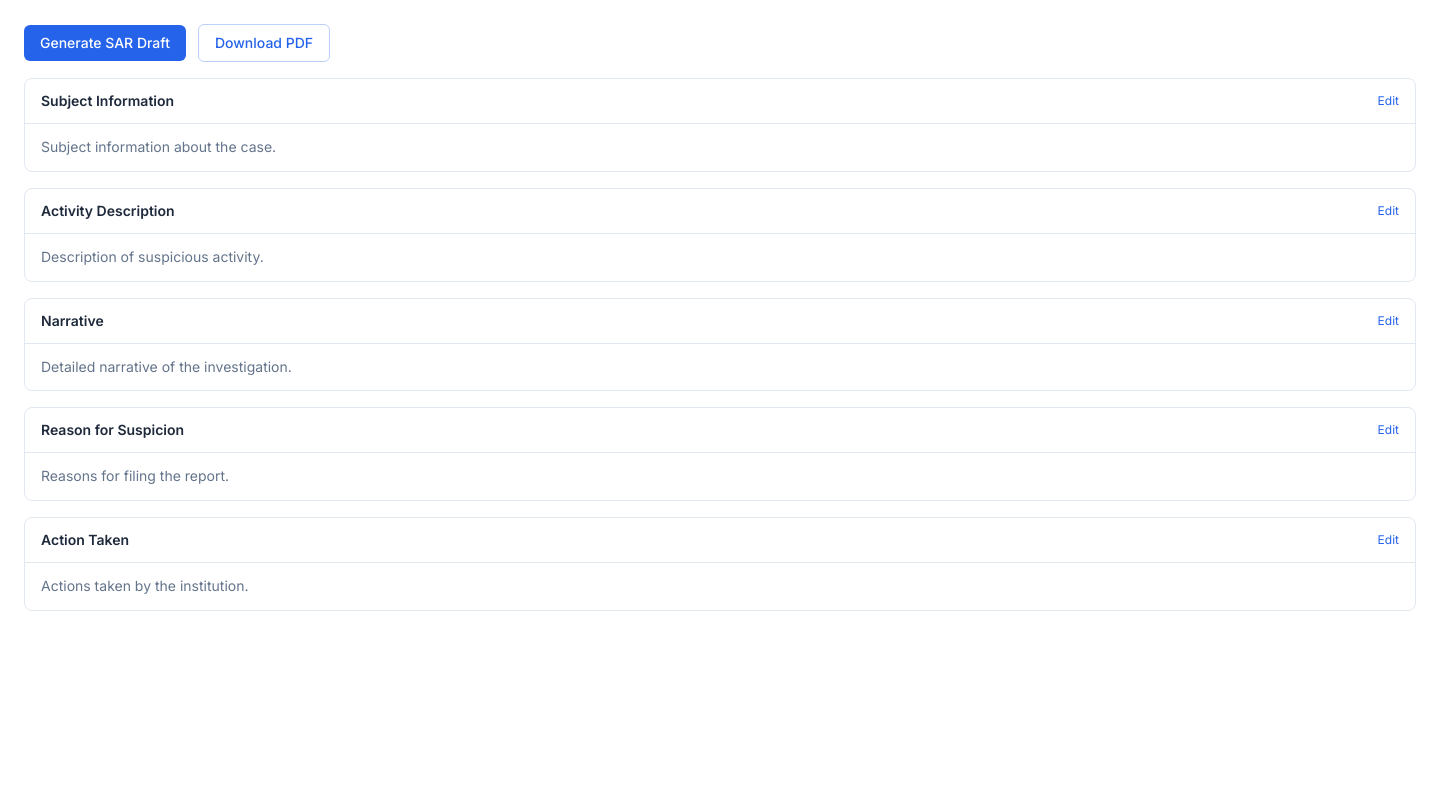
Scenario: SAREditor › cancels edit mode
Click the 1st button "Edit" at (1388, 101), box [1378,93,1399,109]
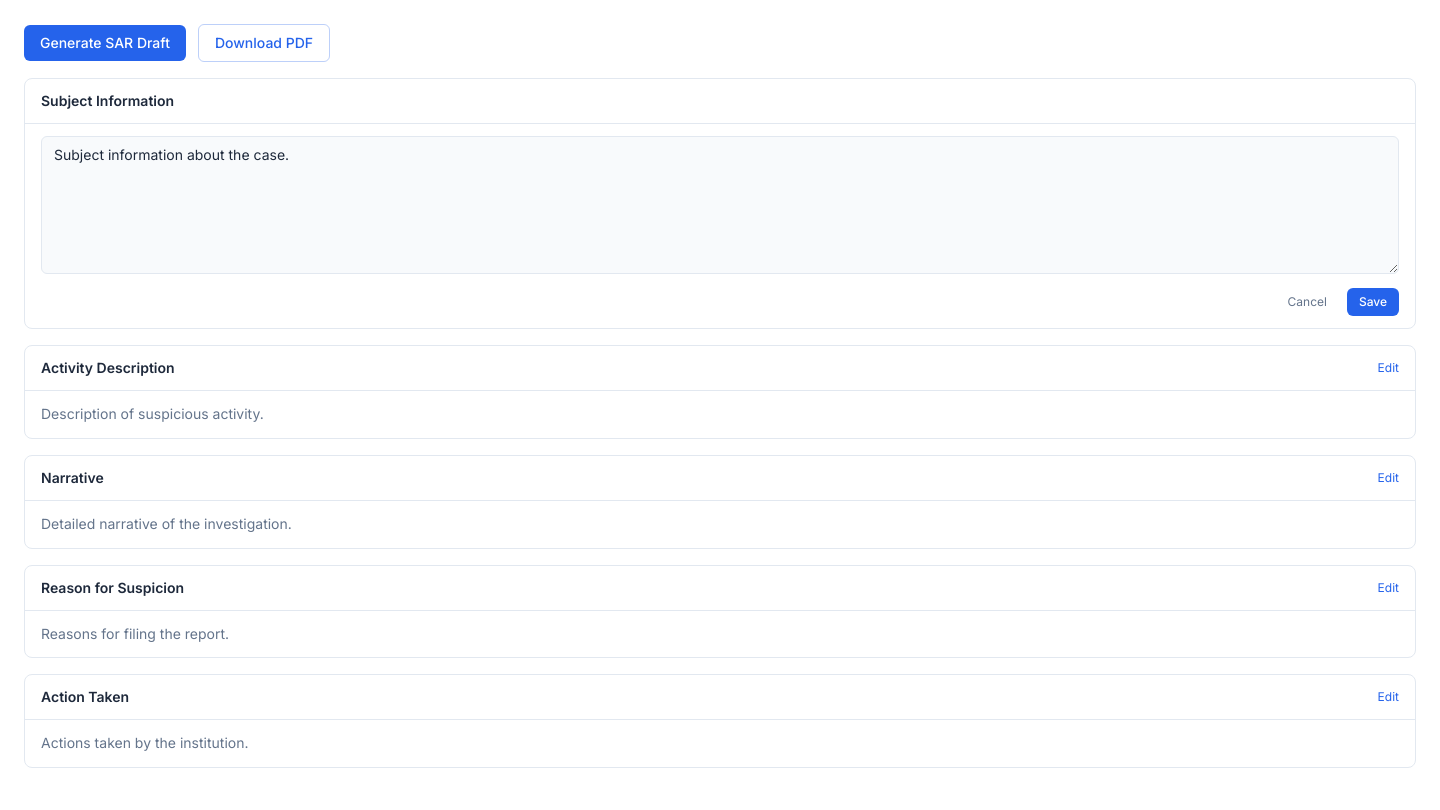
Click the button "Cancel" at (1307, 302), box [1276,288,1339,316]
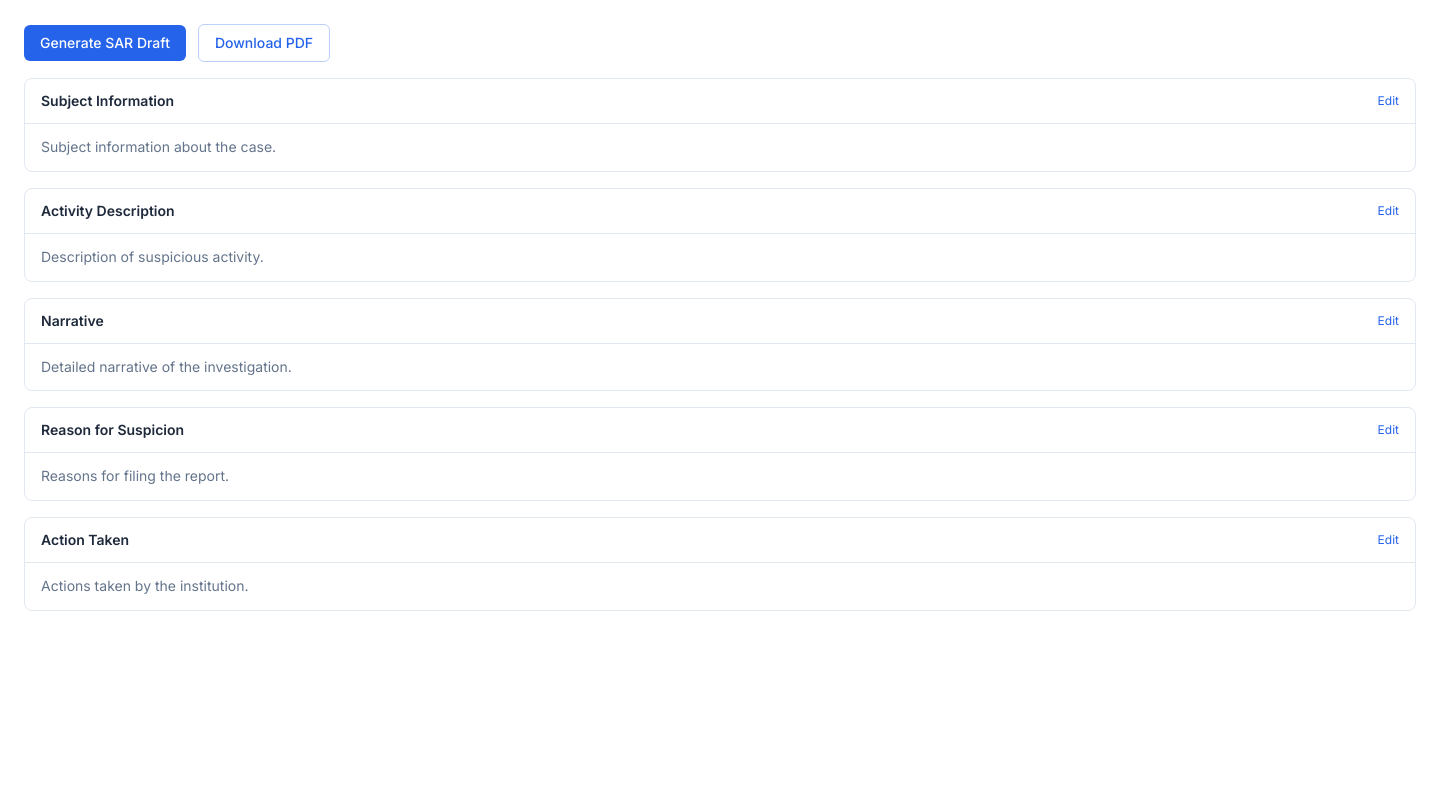
expect the text "Subject information about the case." is shown: met, box [41,138,276,155]
